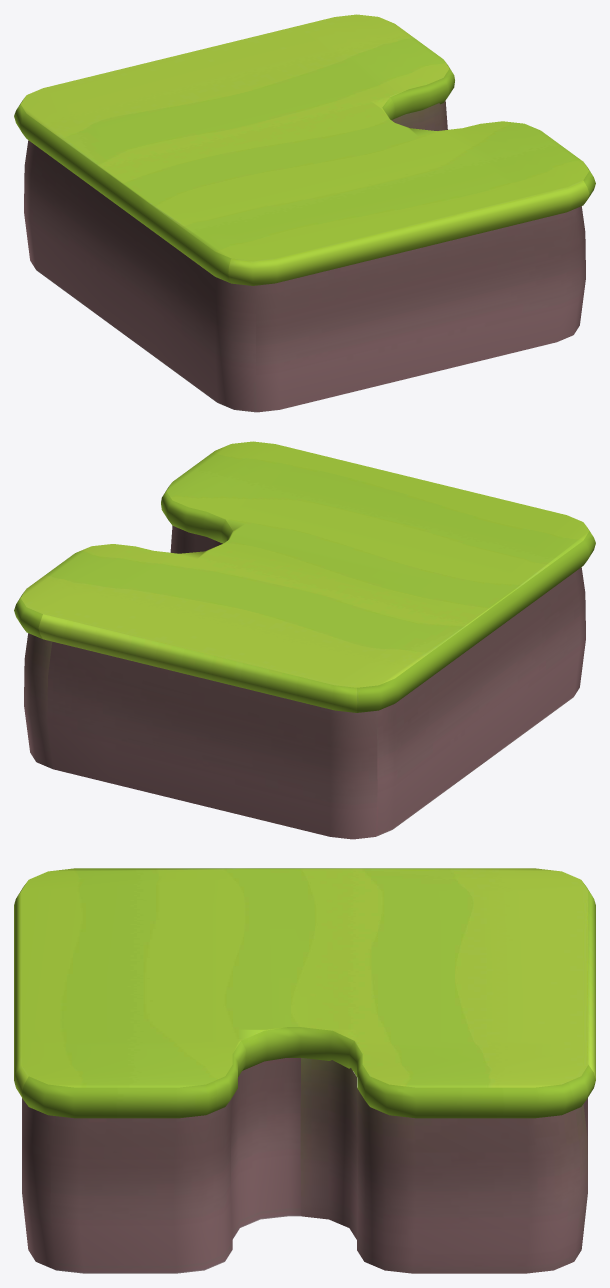
File: land1.fbx
3 renders of one model, top to bottom at view 1: azimuth 30°, elevation 25°; view 2: azimuth 150°, elevation 25°; view 3: azimuth 270°, elevation 25°, orthographic. The views are drawn at different scales.
Parts seen in each view (by area): view 1: land1; view 2: land1; view 3: land1.
Part boxes in pixels (left/top/right/bottom): land1: left=14, top=14, right=595, bottom=412; land1: left=14, top=441, right=595, bottom=839; land1: left=14, top=868, right=595, bottom=1273.
Size of the model in its own units: 2396 by 939 by 2613.
